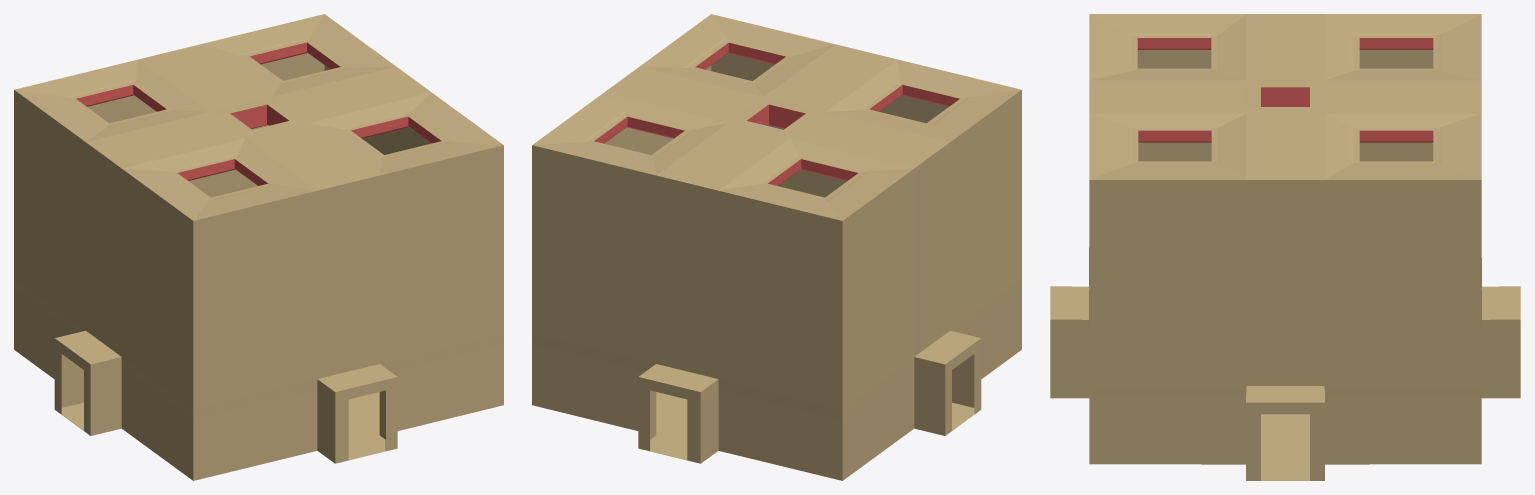
Rendered from BossRoom.fbx.
3 views of the same model, side by side, from view 1: azimuth 30°, elevation 25°; view 2: azimuth 150°, elevation 25°; view 3: azimuth 270°, elevation 25° (orthographic). The views are drawn at different scales.
Visible parts, largest first — view 1: Cube; view 2: Cube; view 3: Cube.
Part boxes in pixels (left/top/right/bottom): Cube: left=14, top=14, right=503, bottom=480; Cube: left=532, top=14, right=1021, bottom=480; Cube: left=1050, top=14, right=1520, bottom=480.
Size of the model in its own units: 24015 by 16036 by 24004.
